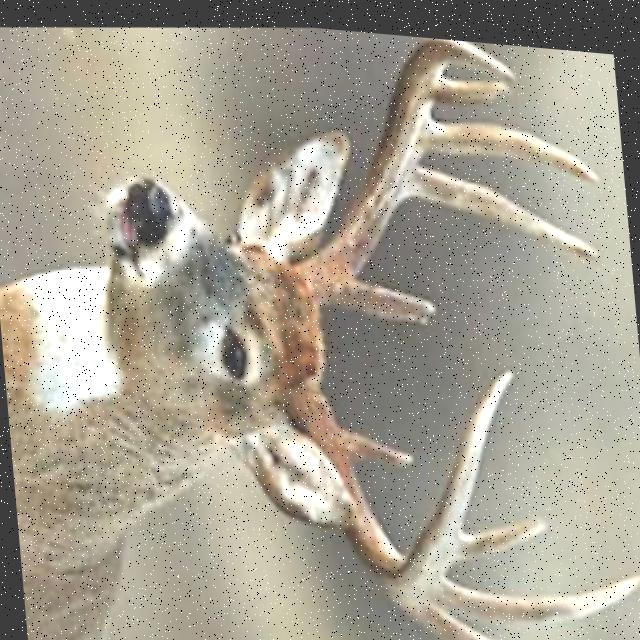L-F: (275, 356, 517, 598)
L-G1: (336, 420, 415, 461)
L-G2: (399, 593, 547, 640)
L-G3: (427, 561, 640, 613)
L-G4: (452, 502, 549, 554)
R-F: (288, 29, 518, 302)
R-G1: (332, 272, 435, 317)
R-G2: (402, 157, 599, 252)
R-G3: (422, 111, 600, 175)
R-G4: (432, 67, 513, 96)
